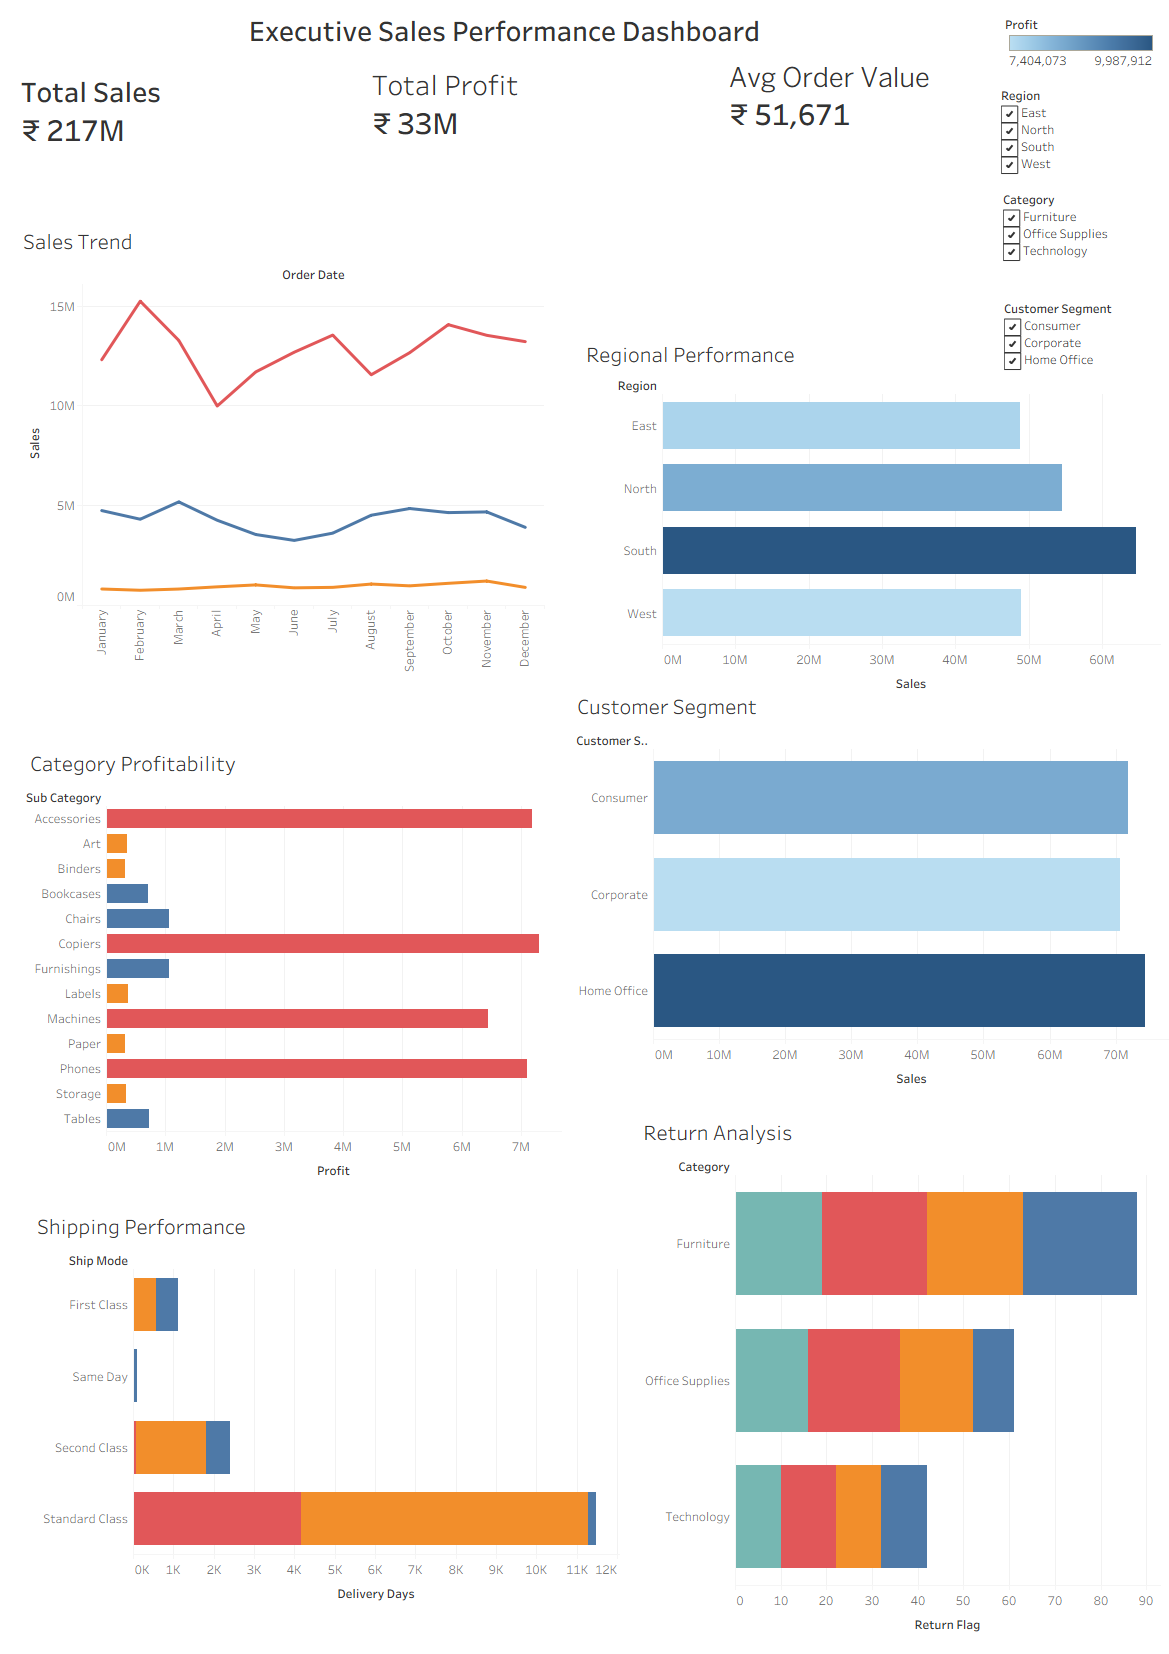

The dashboard page shown, as its layout file describes it:
{"tool":"tableau","page":{"name":"Dashboard 1","canvas":[1169,1654],"ordinal":0},"visuals":[{"type":"title","box":[8,8,993,38]},{"type":"legend","title":"Regional Performance","param":"[federated.0j9j3cv15gfe0p12eomo412b8wfj].[sum:profit:qk]","box":[1001,8,160,71]},{"type":"worksheet","title":"KPI Average Order Value","mark":"Automatic","box":[725,60,435,263]},{"type":"worksheet","title":"KPI Total Profit","mark":"Automatic","box":[368,66,438,269]},{"type":"worksheet","title":"KPI Total Sales","mark":"Automatic","box":[17,73,426,270]},{"type":"filter","title":"Regional Performance","param":"[federated.0j9j3cv15gfe0p12eomo412b8wfj].[none:region:nk]","box":[1001,86,165,96]},{"type":"filter","title":"Sales Trend","param":"[federated.0j9j3cv15gfe0p12eomo412b8wfj].[none:category:nk]","box":[1003,190,160,100]},{"type":"worksheet","title":"Sales Trend","mark":"Automatic","rows":["sales"],"cols":["order_date"],"box":[19,221,525,464]},{"type":"filter","title":"Customer Segment","param":"[federated.0j9j3cv15gfe0p12eomo412b8wfj].[none:customer_segment:nk]","box":[1004,299,157,101]},{"type":"worksheet","title":"Regional Performance","mark":"Bar","rows":["region"],"cols":["sales"],"box":[582,334,578,365]},{"type":"worksheet","title":"Customer Segment","mark":"Bar","rows":["customer_segment"],"cols":["sales"],"box":[573,686,597,408]},{"type":"worksheet","title":"Category Profitability","mark":"Automatic","rows":["sub_category"],"cols":["profit"],"box":[26,743,535,443]},{"type":"worksheet","title":" Return Analysis","mark":"Automatic","rows":["category"],"cols":["return_flag"],"box":[635,1112,525,528]},{"type":"worksheet","title":"Shipping Performance","mark":"Bar","rows":["ship_mode"],"cols":["delivery_days"],"box":[33,1206,586,403]}]}

Visuals, with their boxes in screenshot pixels (x1, y1, x2, y2), scaled from the page's 1169x1654 canvas onto the 1169x1654 screenshot:
title: select_region(8, 8, 1001, 46)
"Regional Performance" legend: select_region(1001, 8, 1161, 79)
"KPI Average Order Value" worksheet: select_region(725, 60, 1160, 323)
"KPI Total Profit" worksheet: select_region(368, 66, 806, 335)
"KPI Total Sales" worksheet: select_region(17, 73, 443, 343)
"Regional Performance" filter: select_region(1001, 86, 1166, 182)
"Sales Trend" filter: select_region(1003, 190, 1163, 290)
"Sales Trend" worksheet: select_region(19, 221, 544, 685)
"Customer Segment" filter: select_region(1004, 299, 1161, 400)
"Regional Performance" worksheet (Bar marks): select_region(582, 334, 1160, 699)
"Customer Segment" worksheet (Bar marks): select_region(573, 686, 1168, 1094)
"Category Profitability" worksheet: select_region(26, 743, 561, 1186)
" Return Analysis" worksheet: select_region(635, 1112, 1160, 1640)
"Shipping Performance" worksheet (Bar marks): select_region(33, 1206, 619, 1609)
